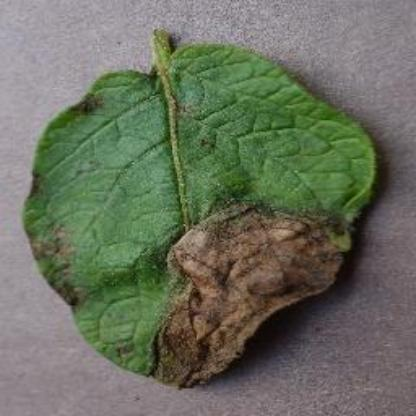Late-Blight: (23, 27, 379, 362)
